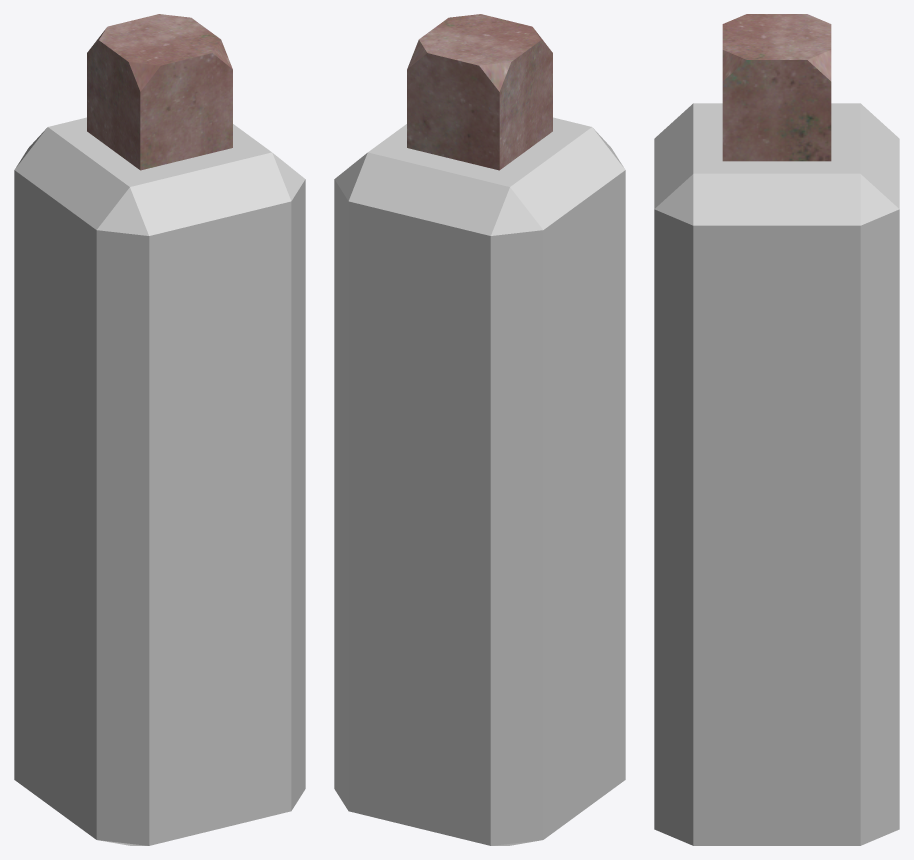
The model's file is health_potion.fbx.
The picture shows the model from 3 angles, left to right: view 1: azimuth 30°, elevation 25°; view 2: azimuth 150°, elevation 25°; view 3: azimuth 270°, elevation 25°; orthographic projection.
Parts seen in each view (by area): view 1: health_potion; view 2: health_potion; view 3: health_potion.
Boxes of the visible parts, x1,y1,x2,y2 form: health_potion: (14,14,305,845); health_potion: (334,14,625,845); health_potion: (654,14,899,845).
Size of the model in its own units: 4.38 by 15.19 by 4.38.
